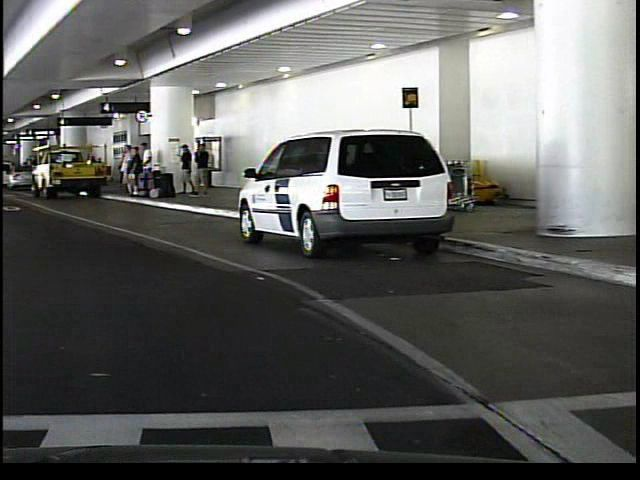person: (189, 139, 208, 198), (114, 141, 128, 198)
